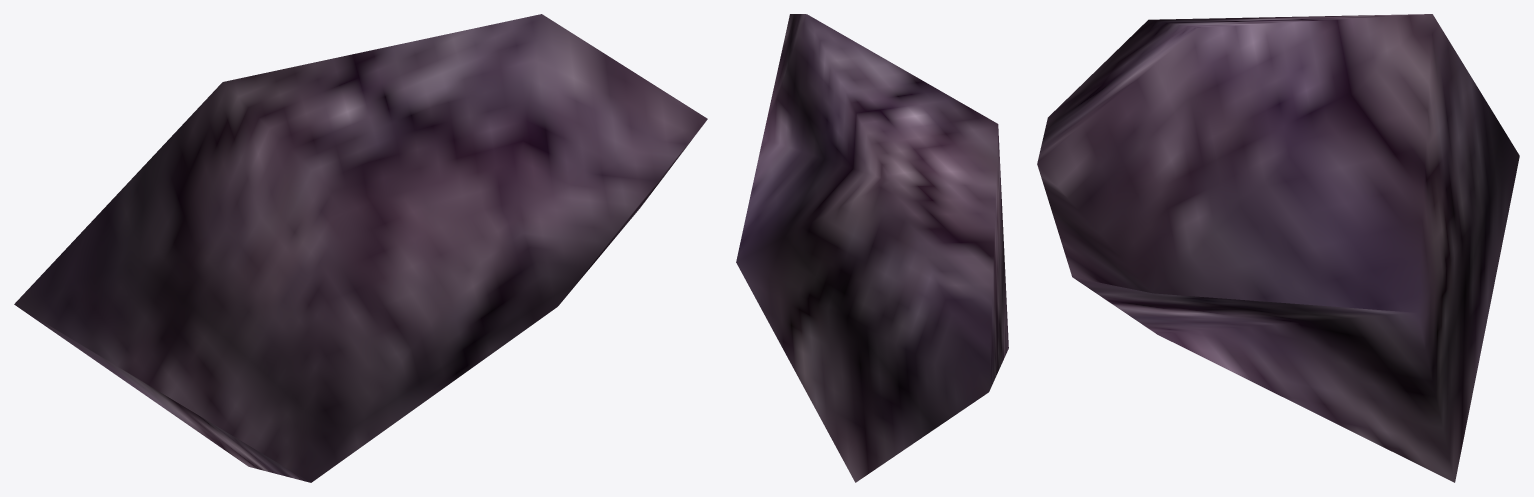
The model's file is condra_7_stone_2.glb.
3 renders of one model, left to right at view 1: azimuth 30°, elevation 25°; view 2: azimuth 150°, elevation 25°; view 3: azimuth 270°, elevation 25°, orthographic. The views are drawn at different scales.
Visible parts, largest first — view 1: model_condra_7_stone_2; view 2: model_condra_7_stone_2; view 3: model_condra_7_stone_2.
Part boxes in pixels (bbox=[...]): model_condra_7_stone_2: bbox=[14, 14, 707, 482]; model_condra_7_stone_2: bbox=[736, 14, 1008, 482]; model_condra_7_stone_2: bbox=[1037, 14, 1519, 482].
Size of the model in its own units: 0.2734 by 0.269 by 0.213.
1 material, 1 textured.
